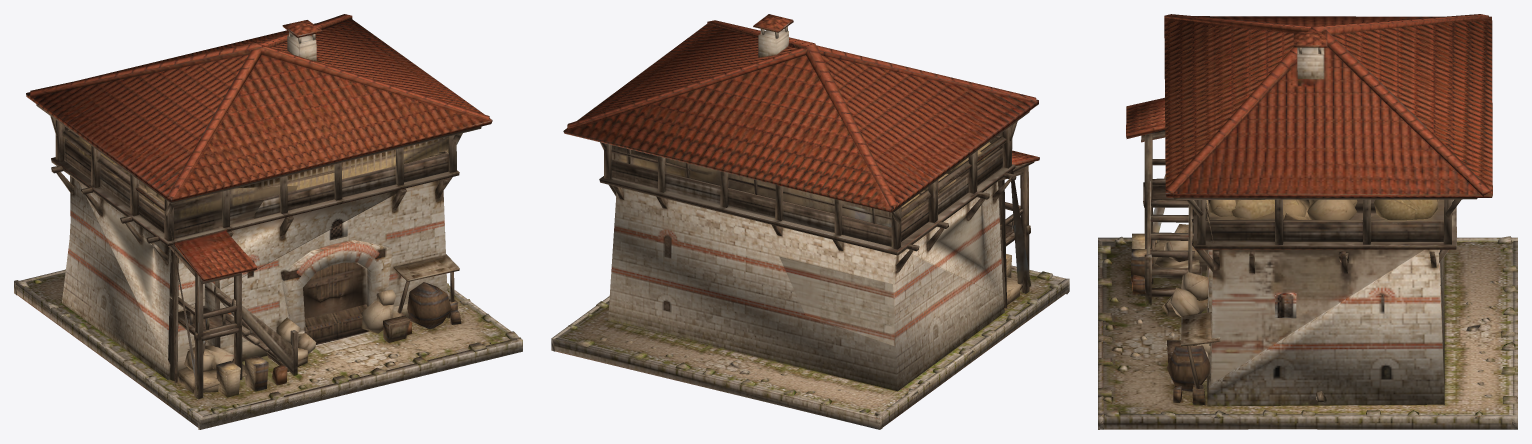
The model's file is Meshy_AI_model.glb.
3 renders of one model, left to right at view 1: azimuth 30°, elevation 25°; view 2: azimuth 150°, elevation 25°; view 3: azimuth 270°, elevation 25°, orthographic. The views are drawn at different scales.
Bounding box in the file's own units: 1 × 0.8607 × 1.
Materials: 1 (1 with a texture image).
